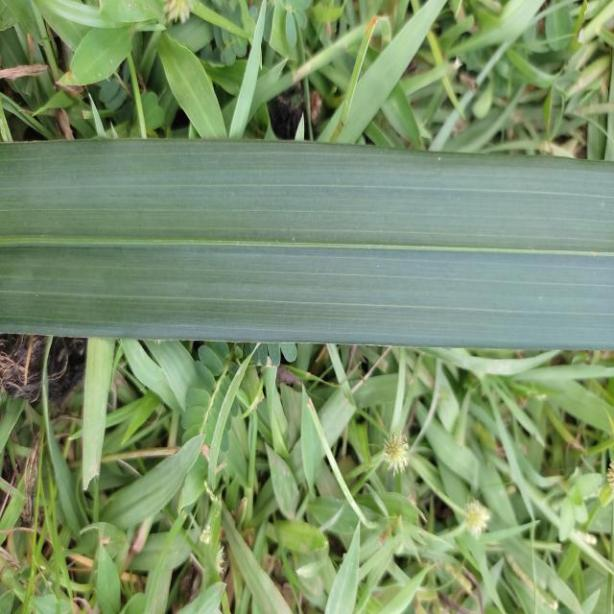Healthy: (0, 142, 614, 350)
